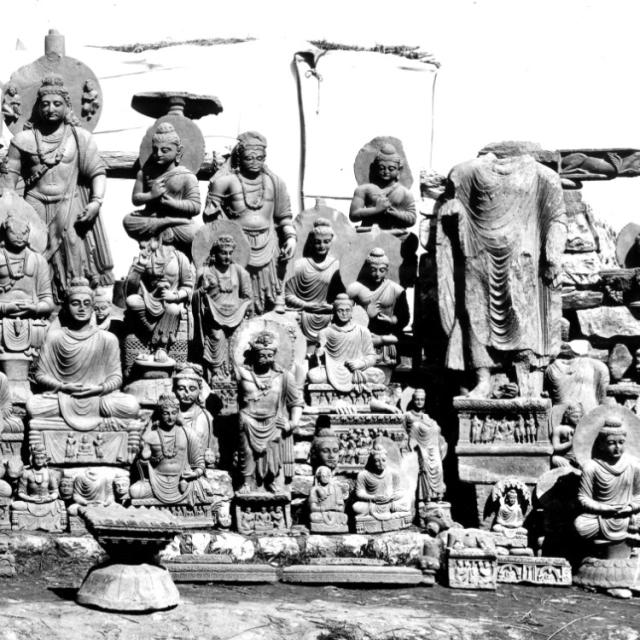buddha-sitting: (26, 279, 142, 464), (124, 92, 222, 253), (574, 405, 640, 596), (112, 230, 195, 377), (305, 294, 400, 414), (130, 394, 212, 527), (284, 200, 356, 351), (340, 225, 410, 374), (349, 136, 418, 286), (172, 362, 232, 528), (479, 479, 571, 584), (0, 190, 55, 356), (352, 436, 411, 534), (11, 445, 66, 532), (545, 356, 610, 412), (68, 469, 115, 534), (309, 466, 348, 532), (549, 402, 584, 467), (0, 371, 24, 462)
buddha-standing: (438, 154, 568, 483), (1, 30, 114, 302), (202, 131, 296, 313), (231, 311, 306, 534), (230, 311, 306, 491), (192, 220, 252, 414), (400, 388, 454, 536)
